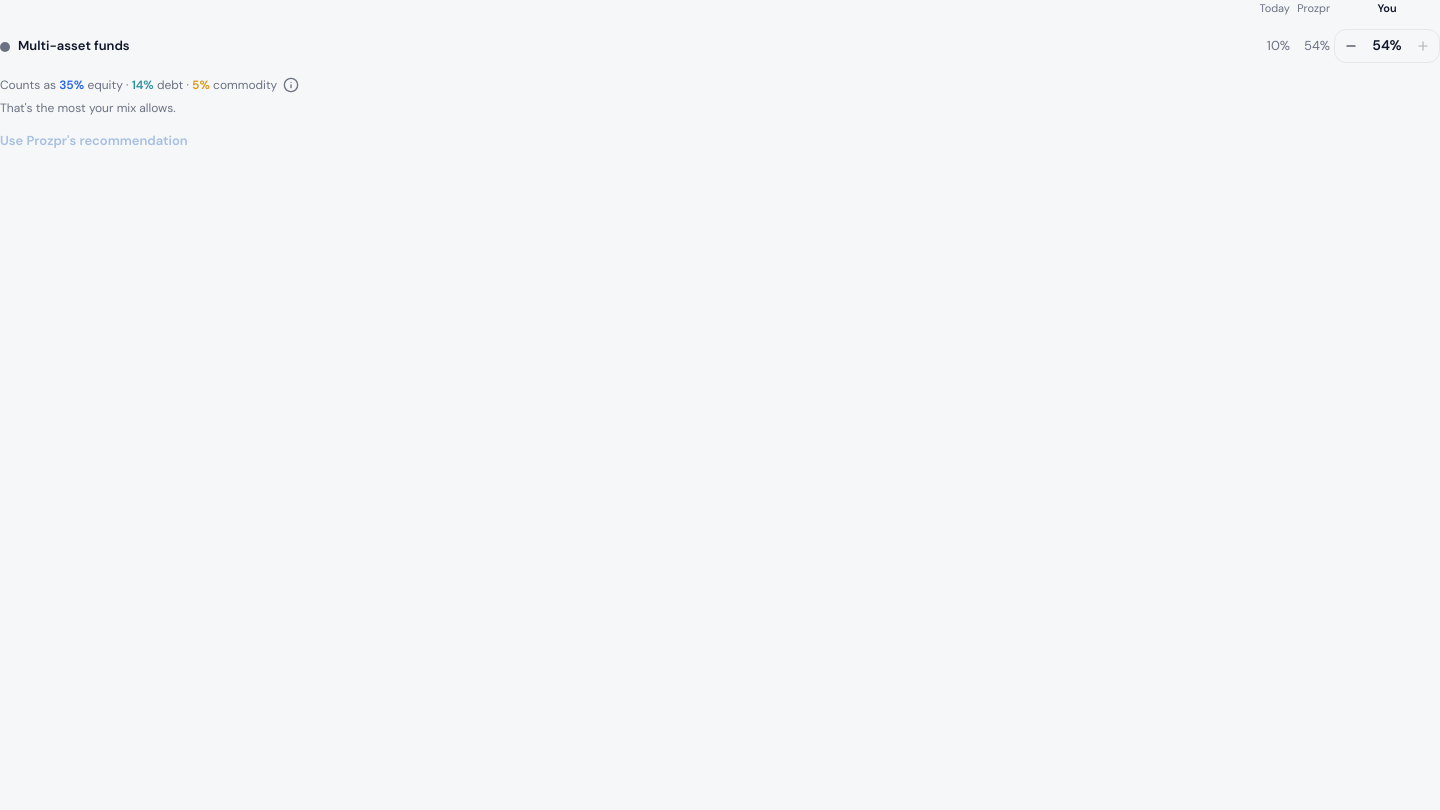
it: MultiAssetPanel › names a commodity-bound limit as commodity, not gold
Click the button named "About multi-asset funds" at [291, 84], box [281,74,301,94]
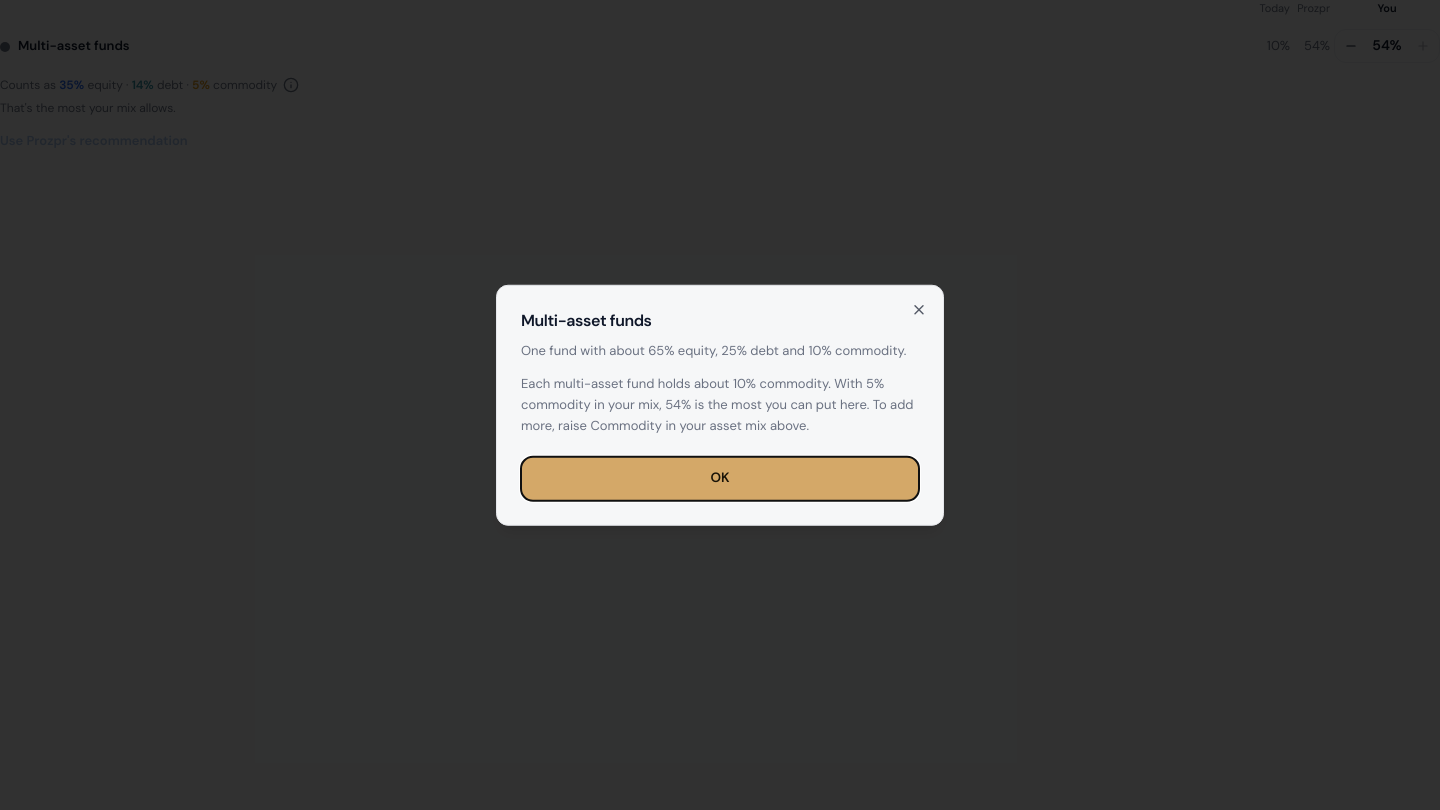
Expected: the dialog "Multi-asset funds" shows "Each multi-asset fund holds about 10% commodity. With 5% commodity in your mix, 54% is the most you can put here. To add more, raise Commodity in your asset mix", [521,375,914,434]
